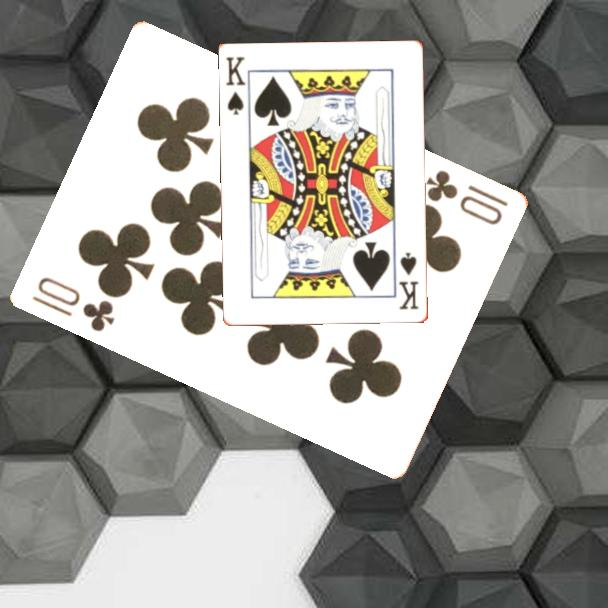c10: (422, 166, 512, 228), (29, 273, 118, 335)
s13: (223, 53, 249, 118), (396, 249, 422, 313)
